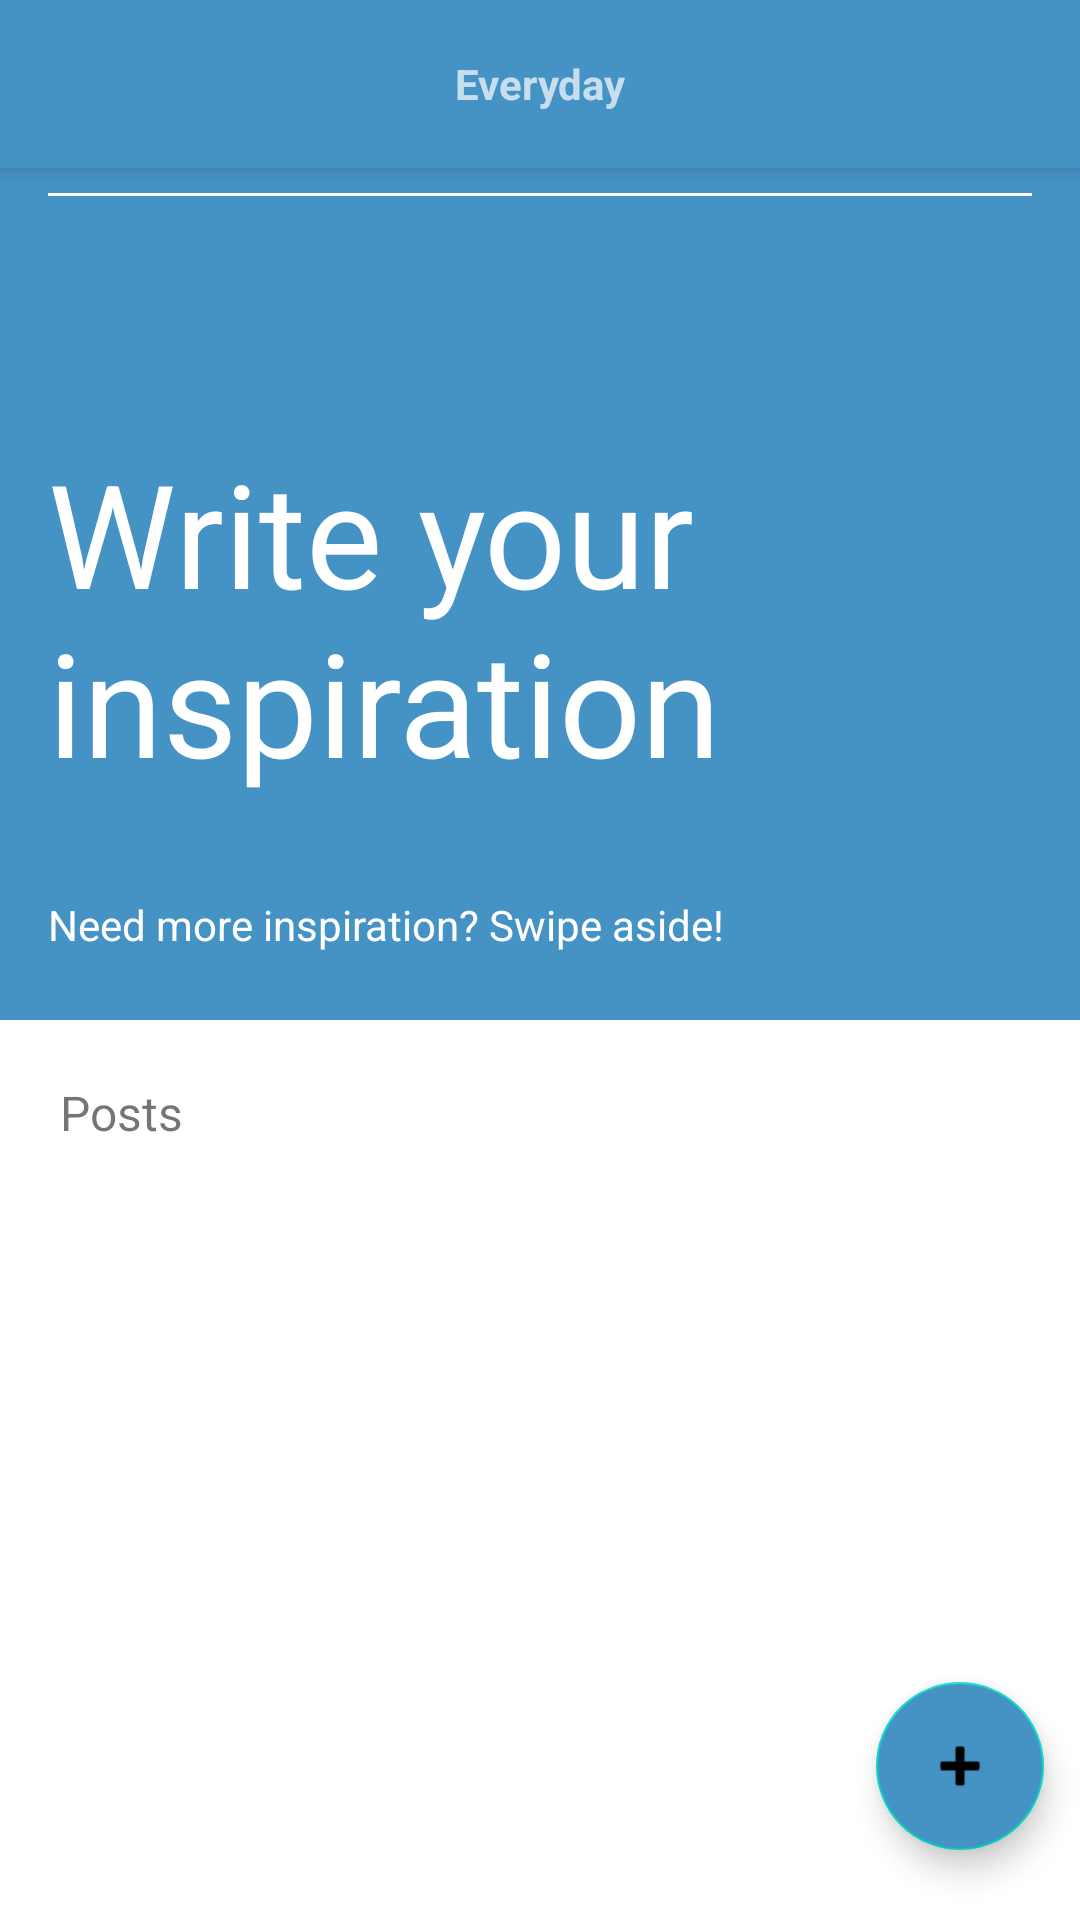

Screen size 1080 × 1920. Icon name, then its center in pixels as (x=x, y=y):
add: (x=960, y=1766)
